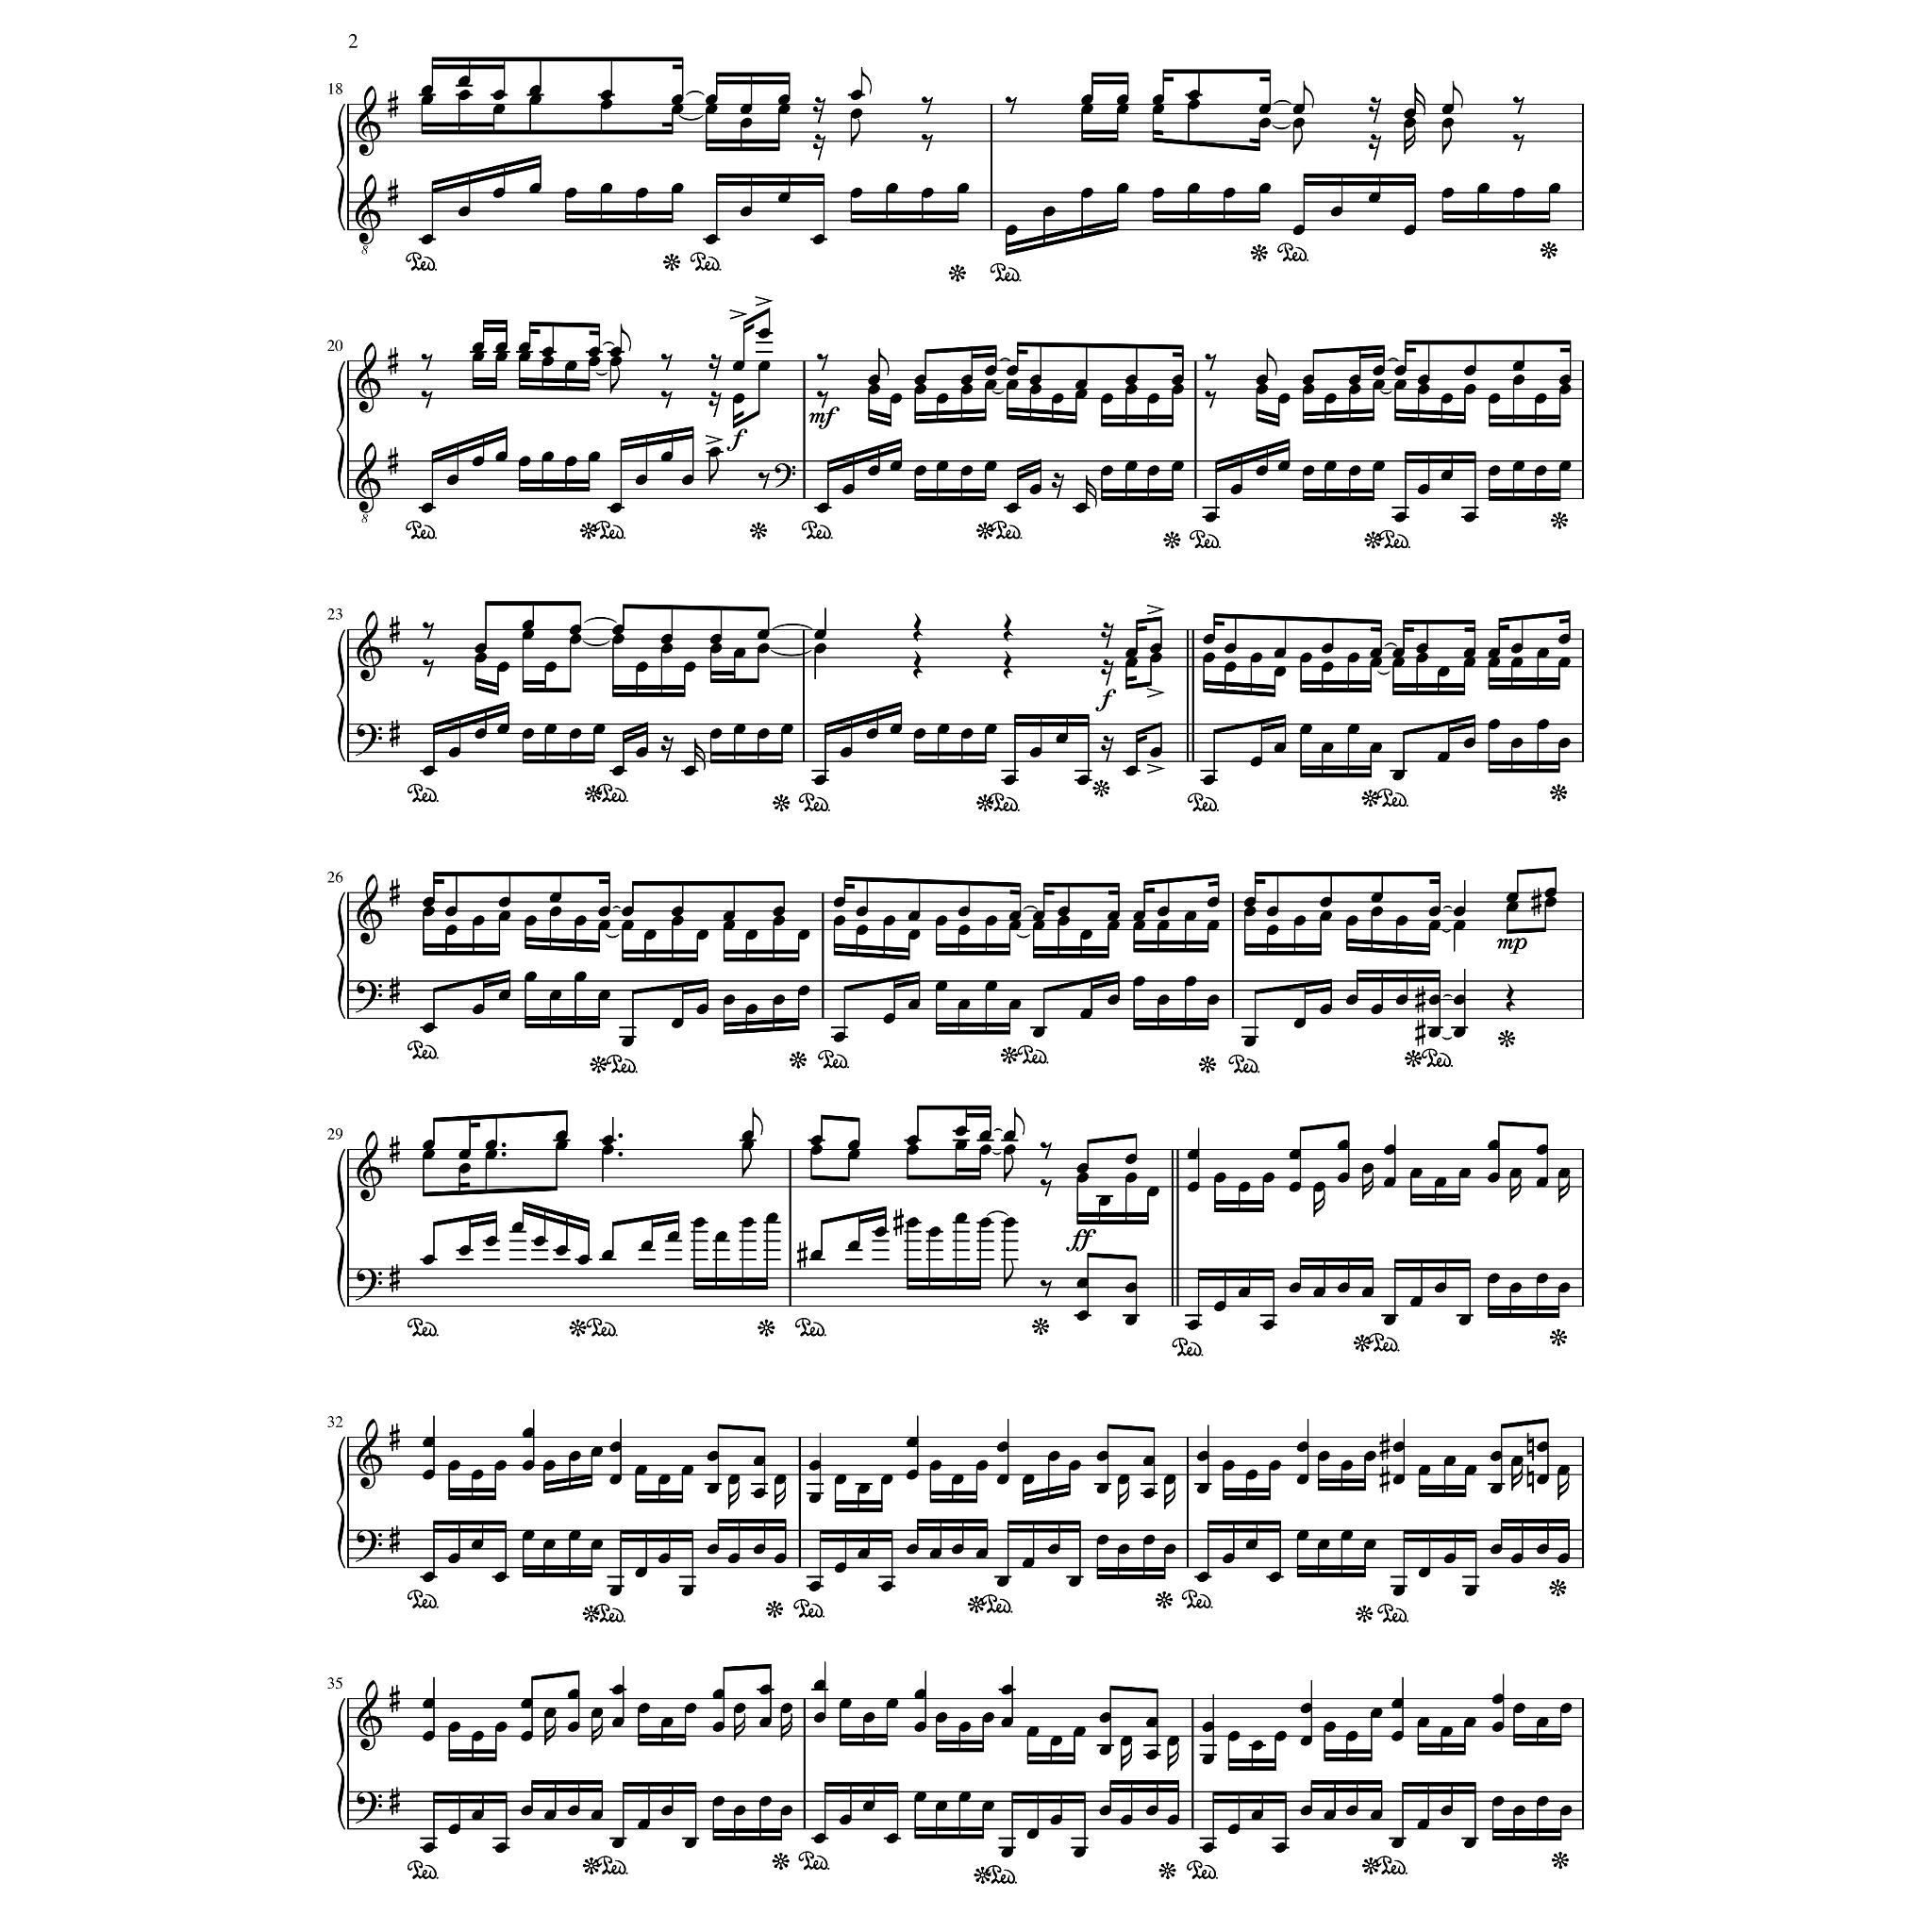brace: (334, 1148, 345, 1307), (336, 361, 345, 499), (336, 630, 345, 763), (336, 1437, 345, 1569), (336, 1698, 345, 1829), (336, 103, 345, 232), (336, 892, 345, 1019)
fClef: (354, 724, 382, 757), (354, 980, 382, 1014), (354, 1269, 382, 1302), (354, 1790, 382, 1824), (354, 1530, 382, 1562)
flag16thDown: (1403, 126, 1415, 154), (1313, 1189, 1325, 1217), (1509, 1175, 1522, 1203), (1557, 1472, 1569, 1500), (1511, 1463, 1523, 1491), (1120, 1743, 1132, 1771), (591, 1716, 603, 1744), (780, 1713, 793, 1741), (1559, 1175, 1569, 1203), (1164, 1483, 1175, 1511), (1118, 1483, 1129, 1511), (729, 1483, 740, 1511), (775, 1483, 786, 1511), (1168, 1743, 1178, 1771), (545, 1716, 556, 1744), (734, 1713, 745, 1741), (1362, 1173, 1373, 1200)
flag16thUp: (1414, 83, 1426, 117), (694, 738, 706, 771), (1086, 474, 1097, 508)
flag8thDown: (1442, 126, 1453, 154), (708, 456, 718, 485), (1003, 1260, 1014, 1288), (1003, 1154, 1014, 1182), (741, 1150, 752, 1178), (1293, 126, 1302, 154), (851, 119, 860, 147), (610, 366, 619, 395)
flag8thUp: (1302, 81, 1315, 110), (1453, 81, 1463, 110), (1014, 1108, 1024, 1136), (752, 1108, 763, 1136), (1267, 349, 1277, 375), (879, 349, 890, 375), (862, 67, 870, 96), (621, 324, 630, 352)
gClef: (354, 173, 380, 246), (354, 85, 380, 157), (356, 610, 382, 683), (356, 1417, 382, 1490), (356, 1679, 382, 1752), (354, 343, 380, 414), (354, 442, 380, 513), (356, 874, 382, 945), (356, 1131, 382, 1201)
noteheadBlack: (1187, 182, 1200, 195), (1152, 188, 1164, 200), (1152, 94, 1164, 106), (1292, 117, 1304, 129), (1223, 188, 1235, 200), (1258, 117, 1270, 129), (1258, 182, 1270, 195), (1042, 205, 1054, 218), (1081, 94, 1093, 106), (1116, 94, 1129, 106), (1116, 182, 1129, 195), (1081, 188, 1093, 200), (1548, 182, 1560, 195), (1477, 182, 1490, 195), (1513, 188, 1525, 200), (1440, 117, 1453, 129), (1440, 188, 1453, 200), (1403, 108, 1415, 120), (1403, 117, 1415, 129), (564, 188, 577, 200), (529, 94, 541, 106), (529, 182, 541, 195), (671, 182, 683, 195), (635, 188, 648, 200), (671, 94, 683, 106), (600, 182, 612, 195), (492, 188, 504, 200), (458, 205, 471, 218), (849, 108, 862, 120), (849, 188, 862, 200), (812, 234, 824, 246), (955, 182, 968, 195), (885, 182, 897, 195), (922, 188, 934, 200), (740, 117, 752, 129), (740, 205, 752, 218), (706, 94, 718, 106), (706, 234, 718, 246), (778, 94, 791, 106), (1323, 393, 1336, 405), (1323, 460, 1336, 472), (1277, 393, 1290, 405), (1277, 460, 1290, 472), (1076, 379, 1088, 391), (1100, 393, 1113, 405), (1051, 393, 1063, 405), (1171, 460, 1184, 472), (1125, 460, 1138, 472), (1146, 393, 1159, 405), (1559, 460, 1571, 472), (1511, 460, 1523, 472), (1534, 393, 1546, 405), (1394, 364, 1407, 377), (1394, 379, 1407, 391), (1488, 393, 1500, 405), (1440, 393, 1453, 405), (1463, 364, 1476, 377), (681, 474, 694, 487), (708, 446, 720, 458), (635, 474, 648, 487), (446, 474, 458, 487), (471, 350, 483, 363), (518, 350, 531, 363), (495, 350, 508, 363), (936, 393, 948, 405), (936, 460, 948, 472), (1007, 364, 1019, 377), (1007, 379, 1019, 391), (984, 364, 996, 377), (984, 379, 996, 391), (984, 460, 996, 472), (732, 393, 745, 405), (1249, 651, 1261, 663), (1346, 651, 1359, 663), (1369, 656, 1382, 669), (1299, 651, 1311, 663), (1322, 642, 1334, 655), (1125, 764, 1138, 777), (1125, 656, 1138, 669), (1150, 642, 1162, 655), (1150, 651, 1162, 663), (1224, 642, 1237, 655), (1536, 718, 1548, 731), (1559, 633, 1571, 646), (1559, 656, 1571, 669), (1415, 642, 1428, 655), (1415, 651, 1428, 663), (1437, 665, 1449, 678), (1437, 750, 1449, 763), (1392, 656, 1405, 669), (1488, 718, 1500, 731), (1511, 642, 1523, 655), (1511, 656, 1523, 669), (1463, 656, 1476, 669), (1488, 656, 1500, 669), (612, 633, 625, 646), (612, 764, 625, 777), (570, 633, 582, 646), (660, 633, 672, 646), (660, 642, 672, 655), (423, 764, 435, 777), (522, 619, 534, 632), (474, 642, 487, 655), (474, 651, 487, 663), (683, 764, 695, 777), (1054, 732, 1067, 745), (709, 633, 722, 646), (757, 642, 770, 655), (814, 642, 826, 655), (709, 642, 722, 655), (1184, 975, 1196, 987), (1293, 915, 1306, 927), (1293, 1017, 1306, 1030), (1056, 915, 1069, 927), (1079, 929, 1092, 941), (1132, 975, 1145, 987), (1545, 886, 1557, 899), (1506, 901, 1518, 913), (1346, 915, 1359, 927), (1369, 1003, 1382, 1016), (1320, 1003, 1332, 1016), (1396, 915, 1408, 927), (598, 989, 610, 1001), (548, 989, 561, 1001), (573, 915, 586, 927), (695, 929, 708, 941), (695, 1003, 708, 1016), (644, 929, 656, 941), (671, 915, 683, 927), (671, 1017, 683, 1030), (524, 915, 536, 927), (472, 915, 485, 927), (472, 1003, 485, 1016), (497, 989, 510, 1001), (883, 915, 895, 927), (908, 929, 920, 941), (984, 915, 996, 927), (934, 915, 947, 927), (745, 929, 757, 941), (745, 1003, 757, 1016), (798, 929, 810, 941), (771, 915, 784, 927), (1214, 1300, 1226, 1313), (1214, 1171, 1226, 1184), (1237, 1286, 1249, 1299), (1313, 1286, 1325, 1299), (1261, 1171, 1274, 1184), (1261, 1318, 1274, 1330), (1288, 1148, 1300, 1161), (1076, 1171, 1088, 1184), (1146, 1185, 1159, 1198), (1187, 1148, 1200, 1161), (1187, 1318, 1200, 1330), (1125, 1154, 1138, 1166), (1125, 1171, 1138, 1184), (1125, 1315, 1138, 1327), (1536, 1272, 1548, 1284), (1384, 1315, 1396, 1327), (1338, 1171, 1350, 1184), (1338, 1139, 1350, 1152), (1361, 1286, 1373, 1299), (1488, 1171, 1500, 1184), (1458, 1315, 1470, 1327), (1488, 1139, 1500, 1152), (1488, 1272, 1500, 1284), (602, 1134, 614, 1146), (602, 1249, 614, 1261), (511, 1221, 524, 1233), (556, 1139, 568, 1152), (741, 1139, 754, 1152), (640, 1240, 653, 1253), (423, 1139, 435, 1152), (423, 1148, 435, 1161), (485, 1139, 497, 1152), (485, 1148, 497, 1161), (485, 1235, 497, 1247), (458, 1148, 471, 1161), (927, 1226, 939, 1238), (874, 1226, 886, 1238), (954, 1125, 966, 1138), (906, 1134, 918, 1146), (954, 1139, 966, 1152), (954, 1212, 966, 1224), (810, 1134, 823, 1146), (810, 1249, 823, 1261), (766, 1212, 778, 1224), (847, 1139, 860, 1152), (847, 1148, 860, 1161), (847, 1240, 860, 1253), (1223, 1460, 1235, 1472), (1196, 1571, 1208, 1583), (1196, 1483, 1208, 1495), (1297, 1529, 1309, 1541), (1246, 1468, 1258, 1481), (1269, 1460, 1281, 1472), (1269, 1571, 1281, 1583), (1047, 1543, 1060, 1555), (1069, 1460, 1081, 1472), (1023, 1557, 1035, 1569), (1143, 1454, 1155, 1467), (1164, 1543, 1177, 1555), (1095, 1483, 1108, 1495), (1116, 1543, 1129, 1555), (1536, 1543, 1548, 1555), (1511, 1454, 1523, 1467), (1392, 1585, 1405, 1598), (1339, 1460, 1352, 1472), (1339, 1529, 1352, 1541), (1465, 1585, 1477, 1598), (1490, 1483, 1502, 1495), (1490, 1543, 1502, 1555), (1444, 1454, 1456, 1467), (609, 1585, 621, 1598), (568, 1529, 580, 1541), (681, 1585, 694, 1598), (706, 1483, 718, 1495), (706, 1543, 718, 1555), (423, 1468, 435, 1481), (423, 1571, 435, 1583), (448, 1460, 460, 1472), (522, 1460, 534, 1472), (522, 1529, 534, 1541), (543, 1460, 556, 1472), (471, 1468, 483, 1481), (494, 1460, 506, 1472), (494, 1571, 506, 1583), (856, 1483, 869, 1495), (952, 1543, 964, 1555), (906, 1468, 918, 1481), (906, 1543, 918, 1555), (929, 1460, 941, 1472), (881, 1580, 893, 1592), (754, 1454, 766, 1467), (754, 1543, 766, 1555), (977, 1460, 989, 1472), (809, 1460, 821, 1472), (809, 1580, 821, 1592), (1166, 1813, 1178, 1826), (1201, 1753, 1214, 1766), (1201, 1842, 1214, 1854), (1274, 1842, 1286, 1854), (1300, 1702, 1313, 1714), (1251, 1739, 1263, 1752), (1049, 1813, 1062, 1826), (1000, 1716, 1012, 1729), (1026, 1725, 1039, 1737), (1026, 1828, 1039, 1840), (1146, 1716, 1159, 1729), (1120, 1813, 1132, 1826), (1536, 1716, 1548, 1729), (1559, 1702, 1571, 1714), (1513, 1702, 1525, 1714), (1463, 1716, 1476, 1729), (1417, 1716, 1430, 1729), (1440, 1725, 1453, 1737), (612, 1716, 625, 1729), (566, 1688, 579, 1700), (685, 1702, 697, 1714), (711, 1688, 724, 1700), (637, 1702, 649, 1714), (423, 1842, 435, 1854), (495, 1842, 508, 1854), (839, 1813, 851, 1826), (913, 1688, 925, 1700), (863, 1799, 876, 1812), (982, 1799, 994, 1812), (934, 1799, 947, 1812), (759, 1716, 771, 1729), (780, 1702, 793, 1714), (814, 1679, 826, 1691), (1187, 90, 1200, 101), (1187, 99, 1200, 110), (1152, 104, 1164, 115), (1292, 104, 1304, 115), (1292, 225, 1304, 235), (1258, 104, 1270, 115), (1005, 225, 1017, 235), (1081, 104, 1093, 115), (1116, 104, 1129, 115), (1368, 193, 1380, 203), (1330, 205, 1341, 218), (1440, 104, 1453, 115), (1403, 225, 1415, 235), (529, 85, 541, 96), (671, 104, 683, 115), (600, 90, 612, 101), (600, 99, 612, 110), (421, 94, 432, 106), (421, 234, 432, 246), (492, 90, 504, 101), (492, 104, 504, 115), (458, 76, 471, 87), (458, 90, 471, 101), (849, 90, 862, 101), (740, 104, 752, 115), (706, 104, 718, 115), (778, 193, 791, 203), (778, 104, 791, 115), (1205, 511, 1217, 522), (1230, 485, 1242, 495), (1254, 375, 1267, 386), (1254, 384, 1267, 395), (1254, 465, 1267, 476), (1348, 375, 1361, 386), (1348, 384, 1361, 395), (1348, 465, 1361, 476), (1028, 384, 1040, 395), (1302, 375, 1315, 386), (1302, 384, 1315, 395), (1302, 465, 1315, 476), (1076, 389, 1088, 400), (1076, 502, 1088, 513), (1100, 465, 1113, 476), (1028, 485, 1040, 495), (1171, 375, 1184, 386), (1171, 384, 1184, 395), (1125, 375, 1138, 386), (1125, 384, 1138, 395), (1146, 465, 1159, 476), (1559, 375, 1571, 386), (1559, 384, 1571, 395), (1511, 361, 1523, 372), (1511, 375, 1523, 386), (1534, 465, 1546, 476), (1394, 511, 1407, 522), (1417, 375, 1430, 386), (1417, 384, 1430, 395), (1417, 485, 1430, 495), (1373, 364, 1384, 377), (1373, 379, 1384, 391), (1373, 460, 1384, 472), (1463, 511, 1476, 522), (1488, 465, 1500, 476), (1440, 471, 1453, 481), (1463, 384, 1476, 395), (587, 347, 600, 357), (587, 356, 600, 366), (587, 451, 600, 462), (609, 347, 621, 357), (609, 356, 621, 366), (609, 502, 621, 513), (564, 361, 577, 372), (564, 456, 577, 467), (1028, 375, 1040, 386), (541, 451, 554, 462), (660, 451, 672, 462), (471, 341, 483, 352), (471, 456, 483, 467), (518, 341, 531, 352), (518, 456, 531, 467), (541, 347, 554, 357), (541, 356, 554, 366), (495, 341, 508, 352), (495, 451, 508, 462), (961, 375, 973, 386), (961, 384, 973, 395), (961, 465, 973, 476), (890, 393, 901, 405), (890, 460, 901, 472), (913, 375, 925, 386), (913, 384, 925, 395), (913, 465, 925, 476), (1007, 502, 1019, 513), (816, 502, 828, 513), (732, 361, 745, 372), (757, 327, 770, 338), (757, 361, 770, 372), (867, 465, 879, 476), (867, 384, 879, 395), (867, 375, 879, 386), (842, 485, 855, 495), (1274, 665, 1284, 678), (1224, 662, 1237, 672), (1249, 755, 1261, 766), (1346, 724, 1359, 734), (1369, 648, 1382, 658), (1369, 743, 1382, 754), (1299, 724, 1311, 734), (1322, 662, 1334, 672), (1322, 743, 1334, 754), (1150, 747, 1162, 757), (1125, 648, 1138, 658), (1203, 633, 1214, 646), (1203, 651, 1214, 663), (1559, 738, 1571, 748), (1536, 648, 1548, 658), (1392, 648, 1405, 658), (1392, 770, 1405, 780), (1511, 738, 1523, 748), (1463, 648, 1476, 658), (1463, 738, 1476, 748), (1488, 648, 1500, 658), (593, 724, 605, 734), (612, 625, 625, 635), (570, 625, 582, 635), (543, 662, 556, 672), (543, 724, 556, 734), (570, 729, 582, 740), (683, 662, 695, 672), (1077, 775, 1090, 786), (635, 662, 648, 672), (635, 747, 648, 757), (448, 747, 460, 757), (522, 630, 534, 640), (522, 729, 534, 740), (474, 729, 487, 740), (497, 662, 510, 672), (497, 724, 510, 734), (913, 729, 925, 740), (936, 724, 948, 734), (840, 747, 853, 757), (865, 729, 878, 740), (1030, 747, 1042, 757), (961, 729, 973, 740), (984, 724, 996, 734), (1003, 775, 1016, 786), (780, 724, 793, 734), (757, 630, 770, 640), (757, 729, 770, 740), (814, 775, 826, 786), (709, 729, 722, 740), (814, 630, 826, 640), (1207, 897, 1219, 908), (1207, 920, 1219, 931), (1207, 994, 1219, 1005), (1157, 920, 1169, 931), (1157, 994, 1169, 1005), (1242, 897, 1254, 908), (1184, 911, 1196, 922), (1008, 911, 1021, 922), (1267, 906, 1279, 916), (1267, 925, 1279, 936), (1157, 906, 1169, 916), (1242, 906, 1254, 916), (1242, 1037, 1254, 1047), (1056, 906, 1069, 916), (1079, 1008, 1092, 1019), (1033, 911, 1046, 922), (1033, 920, 1046, 931), (1033, 1028, 1046, 1039), (1132, 911, 1145, 922), (1132, 920, 1145, 931), (1008, 920, 1021, 931), (1108, 994, 1120, 1005), (1008, 1000, 1021, 1010), (1108, 911, 1120, 922), (1108, 920, 1120, 931), (1545, 897, 1557, 908), (1506, 892, 1518, 902), (1346, 994, 1359, 1005), (1369, 892, 1382, 902), (1369, 906, 1382, 916), (1320, 897, 1332, 908), (1320, 911, 1332, 922), (1453, 906, 1465, 916), (1453, 920, 1465, 931), (1453, 1028, 1465, 1039), (1453, 994, 1465, 1005), (1396, 994, 1408, 1005), (1428, 906, 1440, 916), (1428, 920, 1440, 931), (1428, 1028, 1440, 1039), (1428, 994, 1440, 1005), (598, 906, 610, 916), (598, 920, 610, 931), (621, 906, 633, 916), (621, 920, 633, 931), (621, 1037, 633, 1047), (573, 971, 586, 982), (548, 906, 561, 916), (671, 906, 683, 916), (423, 897, 435, 908), (423, 906, 435, 916), (423, 1023, 435, 1033), (444, 906, 456, 916), (444, 925, 456, 936), (524, 971, 536, 982), (548, 892, 561, 902), (497, 897, 510, 908), (497, 911, 510, 922), (883, 1014, 895, 1024), (908, 911, 920, 922), (908, 1000, 920, 1010), (855, 906, 867, 916), (855, 925, 867, 936), (984, 980, 996, 991), (934, 980, 947, 991), (957, 906, 970, 916), (957, 925, 970, 936), (957, 1000, 970, 1010), (771, 906, 784, 916), (771, 994, 784, 1005), (798, 985, 810, 996), (833, 915, 844, 927), (722, 920, 734, 931), (722, 911, 734, 922), (722, 994, 734, 1005), (1237, 1182, 1249, 1192), (1313, 1182, 1325, 1192), (1288, 1283, 1300, 1293), (1288, 1182, 1300, 1192), (1076, 1162, 1088, 1173), (1076, 1311, 1088, 1322), (1076, 1277, 1088, 1288), (1187, 1182, 1200, 1192), (1099, 1196, 1111, 1207), (1125, 1283, 1138, 1293), (1559, 1168, 1571, 1178), (1559, 1283, 1571, 1293), (1509, 1168, 1522, 1178), (1509, 1283, 1522, 1293), (1536, 1177, 1548, 1187), (1536, 1145, 1548, 1155), (1384, 1177, 1396, 1187), (1384, 1145, 1396, 1155), (1410, 1168, 1422, 1178), (1410, 1297, 1422, 1307), (1338, 1283, 1350, 1293), (1361, 1162, 1373, 1173), (1435, 1177, 1447, 1187), (1435, 1283, 1447, 1293), (1458, 1168, 1470, 1178), (577, 1254, 589, 1265), (602, 1145, 614, 1155), (534, 1235, 545, 1247), (556, 1131, 568, 1141), (556, 1246, 568, 1256), (694, 1217, 706, 1228), (667, 1231, 679, 1242), (715, 1231, 727, 1242), (741, 1131, 754, 1141), (741, 1217, 754, 1228), (423, 1254, 435, 1265), (458, 1162, 471, 1173), (458, 1246, 471, 1256), (906, 1145, 918, 1155), (906, 1217, 918, 1228), (978, 1217, 991, 1228), (1003, 1131, 1016, 1141), (1003, 1145, 1016, 1155), (1003, 1217, 1016, 1228), (978, 1131, 991, 1141), (978, 1145, 991, 1155), (810, 1145, 823, 1155), (1223, 1553, 1235, 1564), (1318, 1539, 1330, 1550), (1196, 1451, 1208, 1461), (1297, 1474, 1309, 1484), (1297, 1442, 1309, 1453), (1318, 1451, 1330, 1461), (996, 1442, 1008, 1453), (1246, 1539, 1258, 1550), (1047, 1451, 1060, 1461), (1069, 1576, 1081, 1587), (996, 1576, 1008, 1587), (1023, 1474, 1035, 1484), (1143, 1488, 1155, 1499), (1143, 1534, 1155, 1545), (1164, 1474, 1177, 1484), (1095, 1451, 1108, 1461), (1095, 1534, 1108, 1545), (1116, 1474, 1129, 1484), (1557, 1465, 1569, 1476), (1557, 1553, 1569, 1564), (1511, 1553, 1523, 1564), (1536, 1474, 1548, 1484), (1536, 1442, 1548, 1453), (1392, 1474, 1405, 1484), (1364, 1539, 1376, 1550), (1392, 1442, 1405, 1453), (1364, 1451, 1376, 1461), (1465, 1465, 1477, 1476), (1490, 1451, 1502, 1461), (1417, 1465, 1430, 1476), (1417, 1568, 1430, 1578), (1444, 1553, 1456, 1564), (609, 1474, 621, 1484), (609, 1442, 621, 1453), (568, 1451, 580, 1461), (591, 1445, 602, 1458), (996, 1474, 1008, 1484), (681, 1465, 694, 1476), (706, 1451, 718, 1461), (635, 1465, 648, 1476), (635, 1568, 648, 1578), (658, 1474, 671, 1484), (658, 1553, 671, 1564), (423, 1437, 435, 1447), (448, 1553, 460, 1564), (522, 1428, 534, 1438), (543, 1539, 556, 1550), (471, 1539, 483, 1550), (856, 1548, 869, 1559), (952, 1474, 964, 1484), (835, 1474, 847, 1484), (835, 1562, 847, 1573), (906, 1437, 918, 1447), (929, 1548, 941, 1559), (881, 1474, 893, 1484), (754, 1488, 766, 1499), (727, 1553, 740, 1564), (727, 1474, 740, 1484), (809, 1493, 821, 1504), (977, 1548, 989, 1559), (773, 1553, 786, 1564), (773, 1474, 786, 1484), (1166, 1736, 1178, 1746), (1201, 1721, 1214, 1732), (1274, 1730, 1286, 1741), (1300, 1736, 1313, 1746), (1300, 1805, 1313, 1815), (1228, 1730, 1240, 1741), (1228, 1824, 1240, 1835), (1251, 1810, 1263, 1821), (1049, 1736, 1062, 1746), (1074, 1725, 1085, 1737), (1000, 1684, 1012, 1695), (1000, 1847, 1012, 1858), (1146, 1750, 1159, 1760), (1146, 1805, 1159, 1815), (1099, 1744, 1111, 1755), (1099, 1713, 1111, 1723), (1099, 1805, 1111, 1815), (1120, 1736, 1132, 1746), (1536, 1796, 1548, 1806), (1559, 1805, 1571, 1815), (1491, 1693, 1504, 1704), (1491, 1796, 1504, 1806), (1513, 1805, 1525, 1815), (1491, 1721, 1504, 1732), (1369, 1707, 1382, 1718), (1369, 1810, 1382, 1821), (1391, 1730, 1403, 1741), (1391, 1698, 1403, 1709), (1391, 1838, 1403, 1849), (1323, 1721, 1336, 1732), (1323, 1810, 1336, 1821), (1346, 1730, 1359, 1741), (1346, 1805, 1359, 1815), (1463, 1838, 1476, 1849), (1440, 1805, 1453, 1815), (1417, 1819, 1430, 1829), (591, 1707, 603, 1718), (591, 1810, 603, 1821), (612, 1684, 625, 1695), (612, 1838, 625, 1849), (543, 1810, 556, 1821), (566, 1721, 579, 1732), (566, 1805, 579, 1815), (685, 1838, 697, 1849), (711, 1721, 724, 1732), (711, 1796, 724, 1806), (637, 1819, 649, 1829), (543, 1707, 556, 1718), (662, 1716, 672, 1729), (423, 1730, 435, 1741), (423, 1698, 435, 1709), (448, 1721, 460, 1732), (448, 1824, 460, 1835), (520, 1805, 533, 1815), (520, 1730, 533, 1741), (520, 1698, 533, 1709), (471, 1730, 483, 1741), (471, 1810, 483, 1821), (495, 1721, 508, 1732), (885, 1698, 897, 1709), (885, 1833, 897, 1844), (913, 1721, 925, 1732), (839, 1698, 851, 1709), (863, 1713, 876, 1723), (957, 1721, 970, 1732), (957, 1790, 970, 1801), (982, 1713, 994, 1723), (934, 1713, 947, 1723), (913, 1790, 925, 1801), (759, 1684, 771, 1695), (759, 1796, 771, 1806), (780, 1805, 793, 1815), (734, 1702, 745, 1714), (814, 1713, 826, 1723), (814, 1833, 826, 1844), (421, 85, 432, 96), (421, 502, 432, 513), (1274, 648, 1284, 658), (1274, 743, 1284, 754), (1203, 775, 1214, 786), (890, 724, 901, 734), (734, 724, 745, 734), (734, 648, 745, 658), (833, 897, 844, 908), (833, 1031, 844, 1042), (591, 1539, 602, 1550), (1074, 1847, 1085, 1858), (662, 1805, 672, 1815), (734, 1805, 745, 1815)
rest16th: (1368, 133, 1382, 161), (812, 133, 826, 161), (1368, 97, 1382, 124), (812, 97, 826, 124), (1100, 623, 1115, 649), (1100, 660, 1115, 686), (1100, 736, 1115, 763), (660, 736, 674, 763), (1051, 472, 1063, 499), (708, 354, 720, 380), (708, 391, 720, 418)
rest8th: (1511, 133, 1523, 152), (920, 133, 932, 152), (1040, 1141, 1053, 1161), (1005, 97, 1017, 115), (1511, 97, 1523, 115), (920, 97, 932, 115), (660, 354, 672, 372), (660, 391, 672, 409), (757, 472, 770, 490), (1040, 1178, 1053, 1196), (1040, 1279, 1053, 1297), (423, 658, 433, 678), (1205, 391, 1215, 409), (1205, 354, 1215, 372), (421, 354, 432, 372), (421, 391, 432, 409), (817, 391, 828, 409), (817, 354, 828, 372), (423, 623, 433, 640)
restQuarter: (913, 612, 924, 642), (913, 651, 924, 679), (1506, 984, 1516, 1012), (1003, 612, 1012, 642), (1003, 651, 1012, 679)
